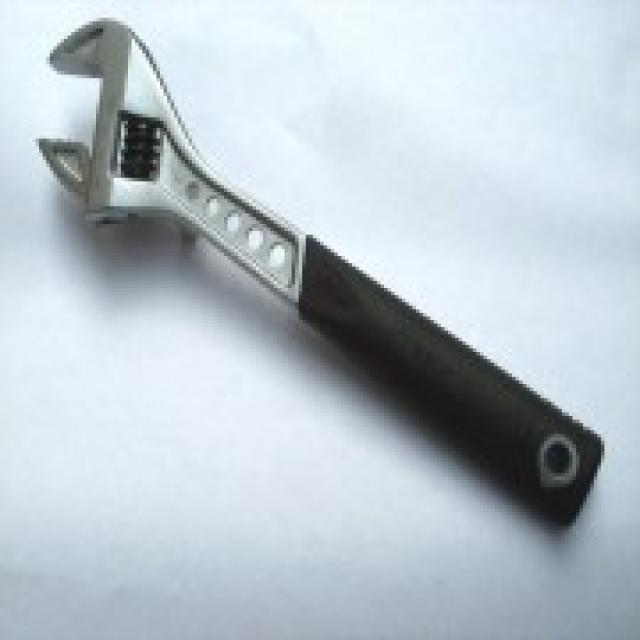wrench: (18, 0, 608, 555)
